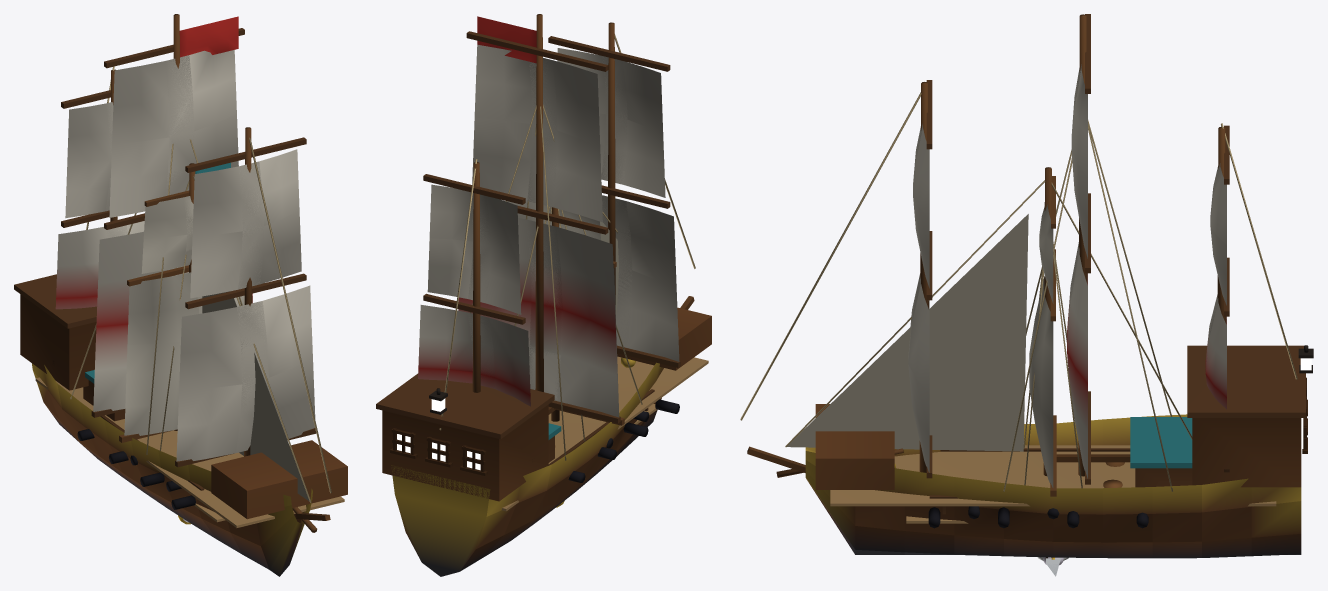
Rendered from actors.glb.
3 views of the same model, side by side, from view 1: azimuth 30°, elevation 25°; view 2: azimuth 150°, elevation 25°; view 3: azimuth 270°, elevation 25° (orthographic). The views are drawn at different scales.
Visible parts, largest first — view 1: galleon, sloop; view 2: galleon, sloop; view 3: galleon, sloop.
Boxes of the visible parts, left/top/right/bottom form: galleon: left=14, top=14, right=347, bottom=576; sloop: left=83, top=162, right=317, bottom=532; galleon: left=376, top=14, right=711, bottom=576; sloop: left=507, top=201, right=657, bottom=465; galleon: left=740, top=14, right=1313, bottom=558; sloop: left=776, top=167, right=1192, bottom=523.
Size of the model in its own units: 4.2 by 12.3 by 11.57.
